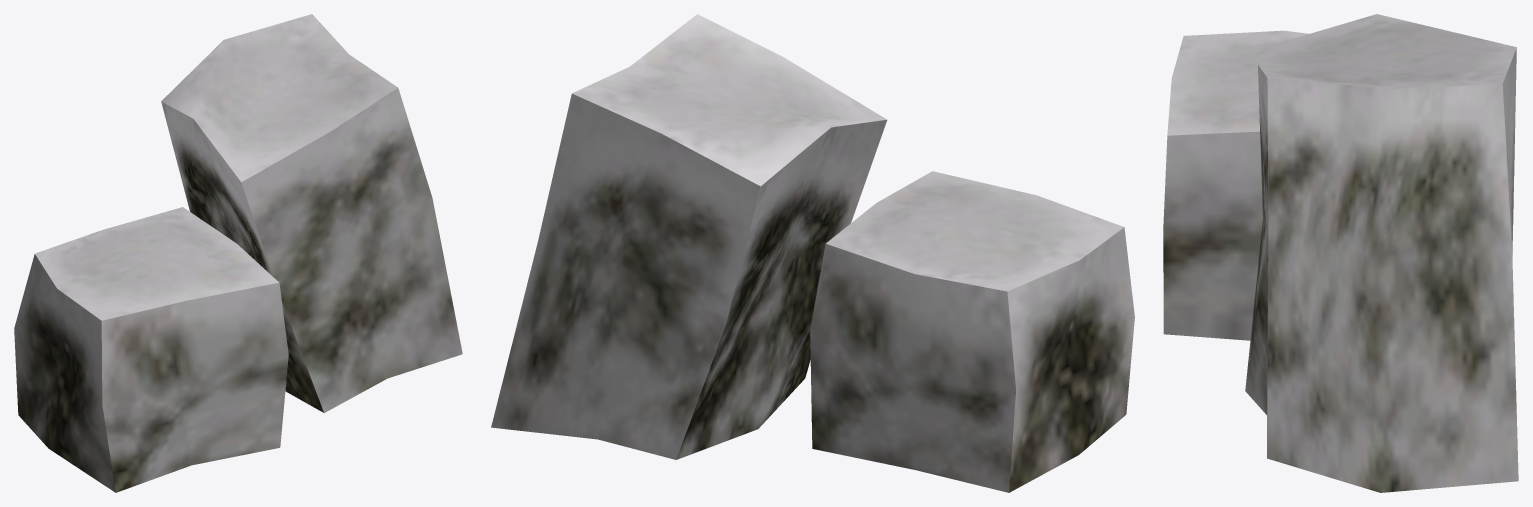
File: ob-bigstone04.glb
3 renders of one model, left to right at view 1: azimuth 30°, elevation 25°; view 2: azimuth 150°, elevation 25°; view 3: azimuth 270°, elevation 25°, orthographic. The views are drawn at different scales.
Parts seen in each view (by area): view 1: ob-bigstone04; view 2: ob-bigstone04; view 3: ob-bigstone04.
Part boxes in pixels (<box>): ob-bigstone04: <box>14,14,462,492</box>; ob-bigstone04: <box>491,14,1134,492</box>; ob-bigstone04: <box>1163,14,1518,492</box>.
Bounding box in the file's own units: 5.46 × 3.7 × 3.27.
Materials: 1 (1 with a texture image).
